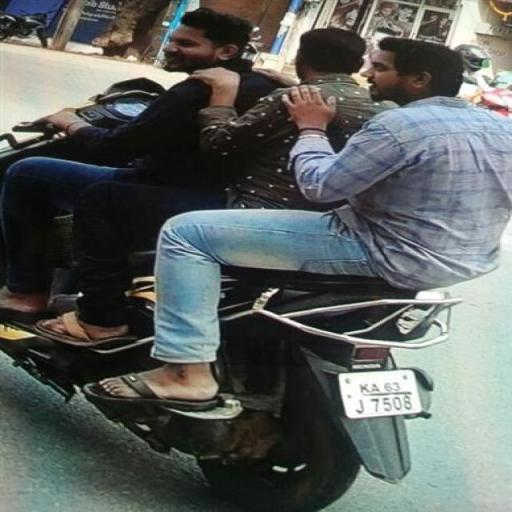tripple riding: (2, 8, 512, 376)
